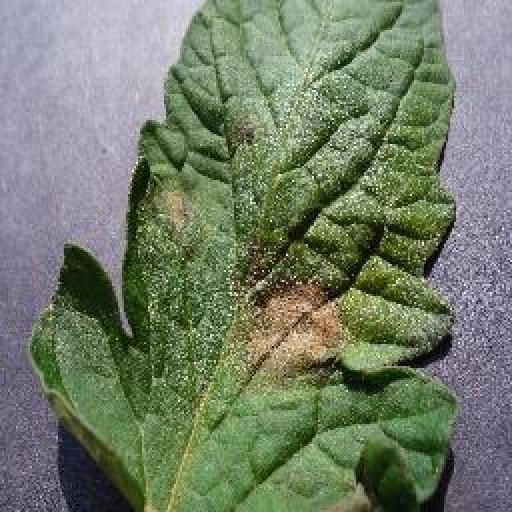disease_tomato: (31, 0, 457, 512)
